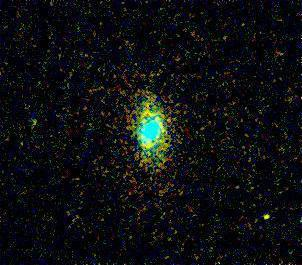star: (250, 197, 280, 227)
